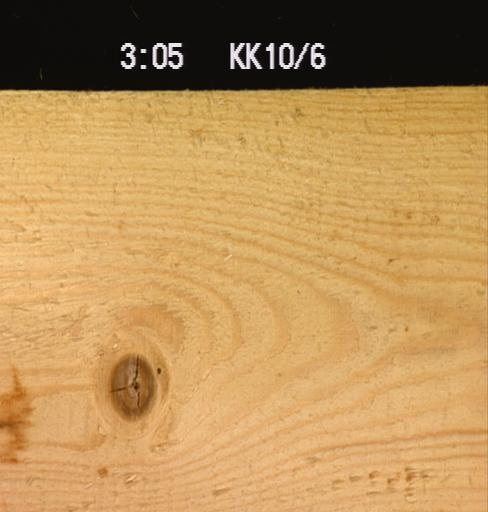sound_knot: (107, 352, 157, 422)
